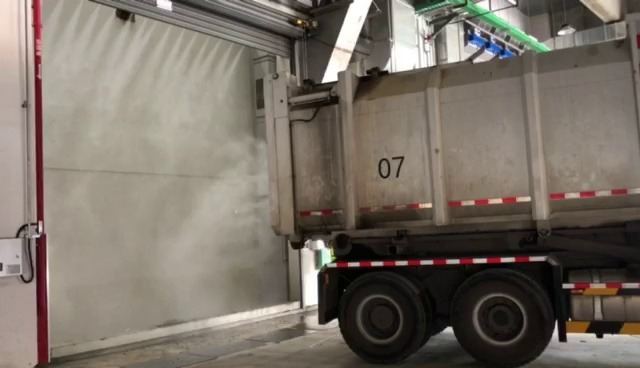dust: (45, 120, 263, 319)
truck: (256, 27, 640, 365)
